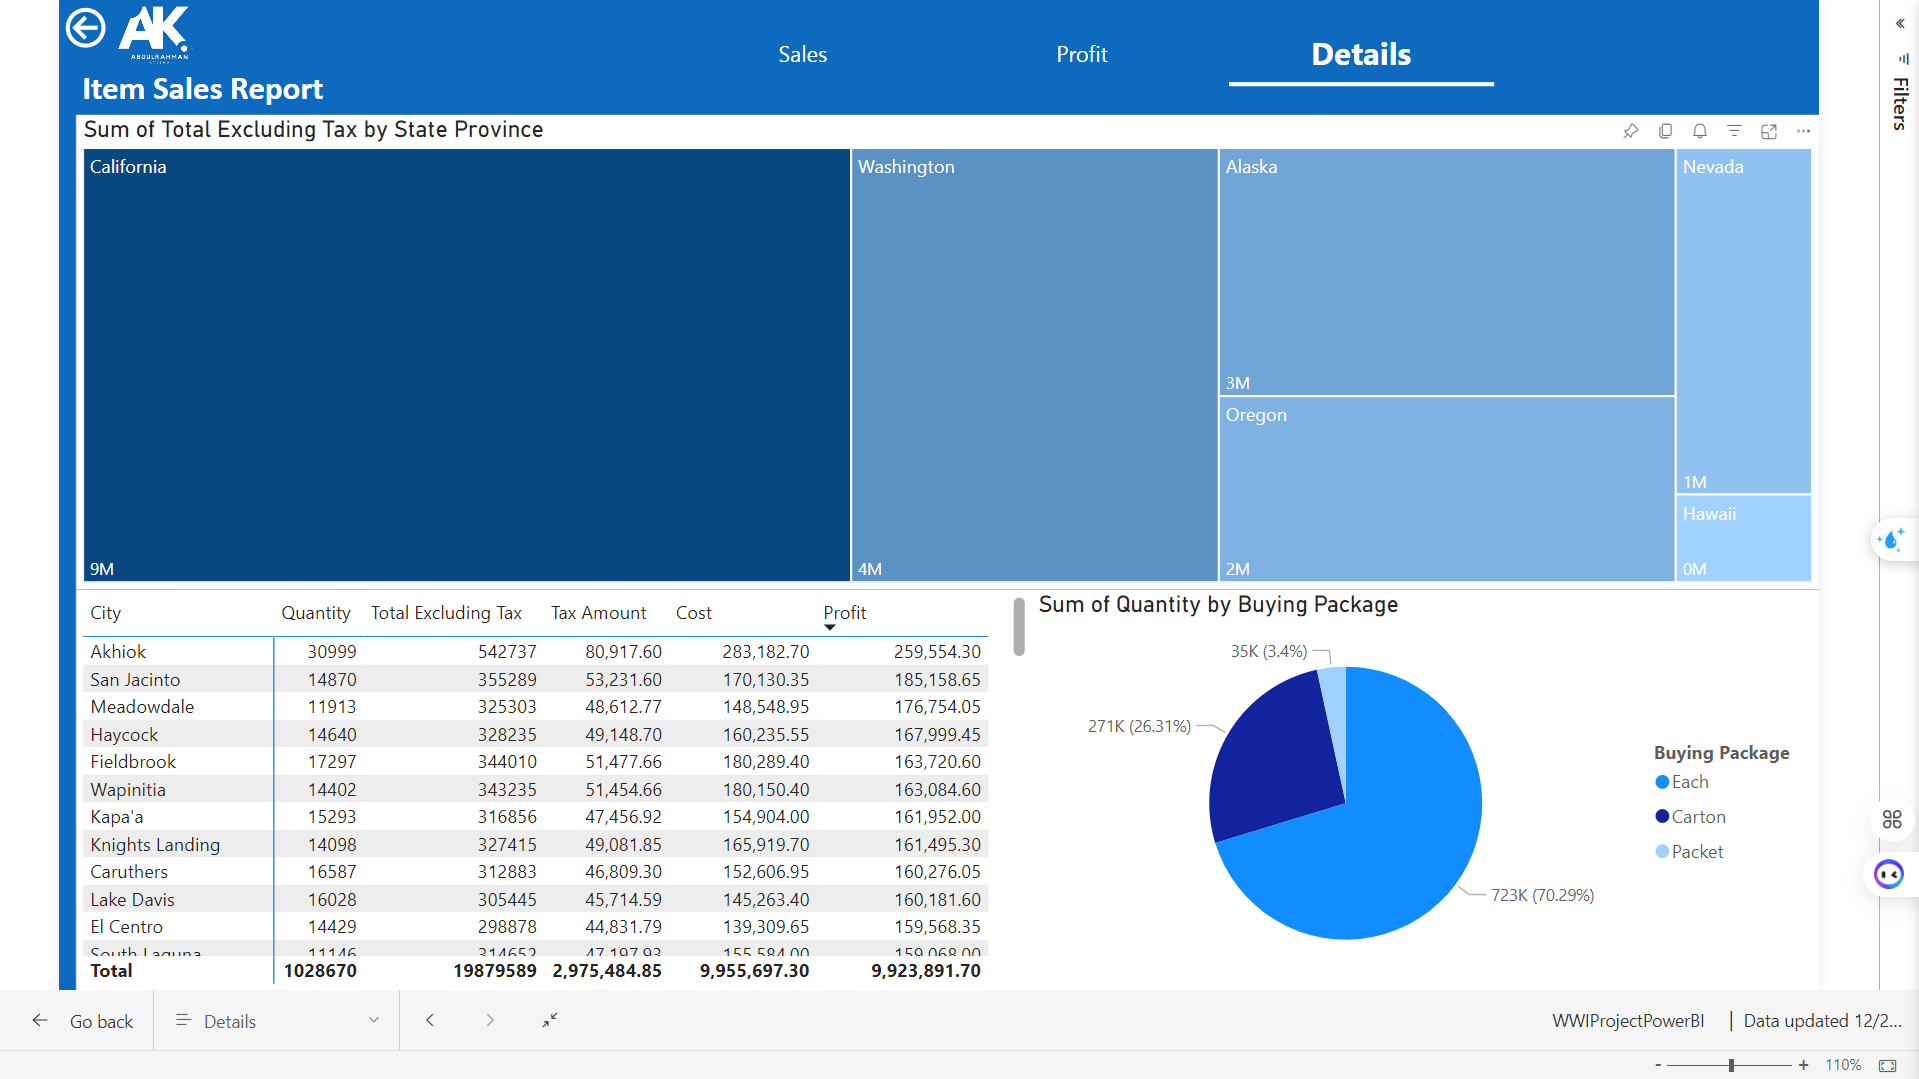

Layout of this report page (visuals, bound fields, positions):
{"tool":"powerbi","page":{"name":"Details","canvas":[1280,720],"ordinal":2},"visuals":[{"type":"shape","box":[0,0,1280,83.3],"z":0},{"type":"shape","box":[0,53.3,12.2,666.7],"z":1000},{"type":"textbox","box":[12.2,43.3,252.2,40],"z":2000},{"type":"image","box":[18.6,0,110,52.9],"z":3000},{"type":"actionButton","box":[0,0,38.8,40],"z":4000},{"type":"pageNavigator","box":[444.3,12.9,600,50],"z":5000},{"type":"pieChart","fields":{"Category":["DimStockItem.Buying Package"],"Y":["Sum(FactSale.Quantity)"]},"box":[707.5,428.8,572.5,291.2],"z":6000},{"type":"treemap","fields":{"Values":["Sum(FactSale.Total Excluding Tax)"],"Group":["DimCity.State Province"]},"box":[12.5,83.8,1267.5,345],"z":7000},{"type":"pivotTable","fields":{"Rows":["DimCity.City"],"Values":["Sum(FactSale.Quantity)","Sum(FactSale.Total Excluding Tax)","Sum(FactSale.Tax Amount)","Sum(FactSale.Cost)","Sum(FactSale.Profit)"]},"box":[12.5,428.8,695,291.2],"z":8000}]}

Visuals, with their boxes on the page's 1280x720 design canvas (x1, y1, x2, y2). These are canvas units, not pixel positions in the 1919x1079 screenshot, which may show the page scaled, cropped or inside an application window:
shape: region(0, 0, 1280, 83)
shape: region(0, 53, 12, 720)
textbox: region(12, 43, 264, 83)
image: region(19, 0, 129, 53)
actionButton: region(0, 0, 39, 40)
pageNavigator: region(444, 13, 1044, 63)
pieChart - DimStockItem.Buying Package x Sum(FactSale.Quantity): region(708, 429, 1280, 720)
treemap - Sum(FactSale.Total Excluding Tax) x DimCity.State Province: region(12, 84, 1280, 429)
pivotTable - DimCity.City x Sum(FactSale.Quantity): region(12, 429, 708, 720)
